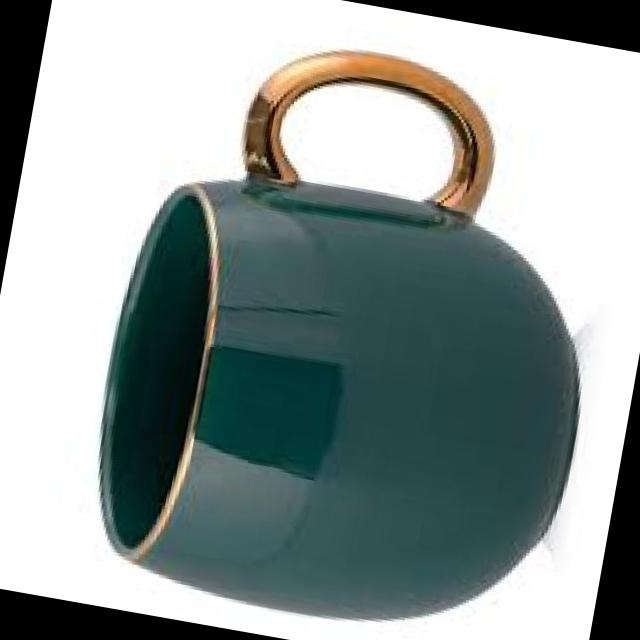Coffee Mug: (71, 16, 632, 640)
